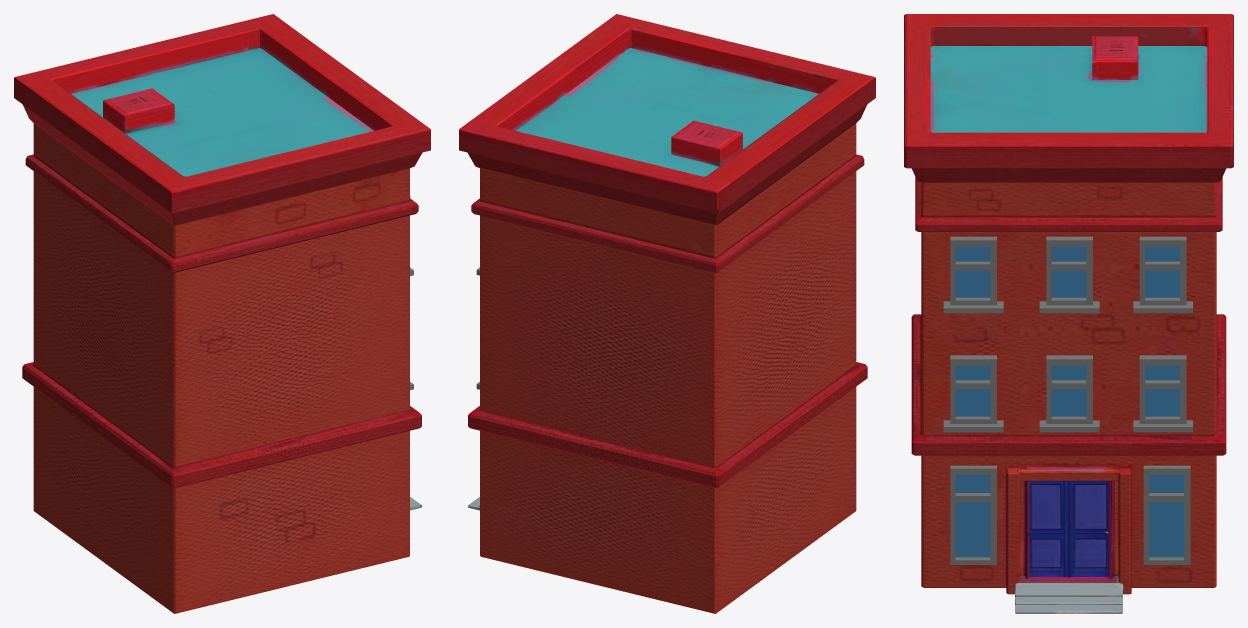
File: buildingRed.fbx
The picture shows the model from 3 angles, left to right: view 1: azimuth 30°, elevation 25°; view 2: azimuth 150°, elevation 25°; view 3: azimuth 270°, elevation 25°; orthographic projection. The views are drawn at different scales.
Parts seen in each view (by area): view 1: Edificio_ROjo; view 2: Edificio_ROjo; view 3: Edificio_ROjo.
Part boxes in pixels (x1,y1,x2,y2): Edificio_ROjo: (14, 14, 430, 613); Edificio_ROjo: (459, 14, 875, 613); Edificio_ROjo: (904, 14, 1233, 613).
Bounding box in the file's own units: 69.87 × 94.93 × 63.1.
Materials: 3 (2 with a texture image).
